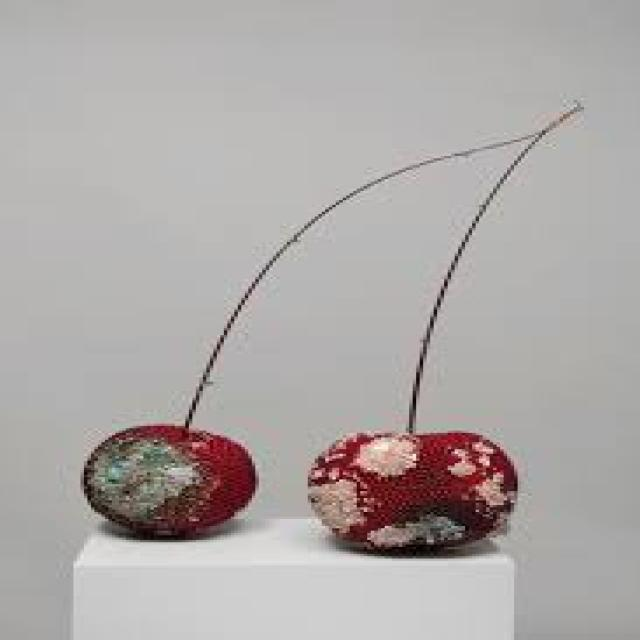food_waste: (308, 431, 514, 549), (84, 424, 255, 535)
